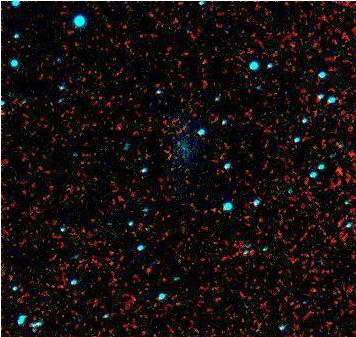star: (162, 131, 192, 161)
